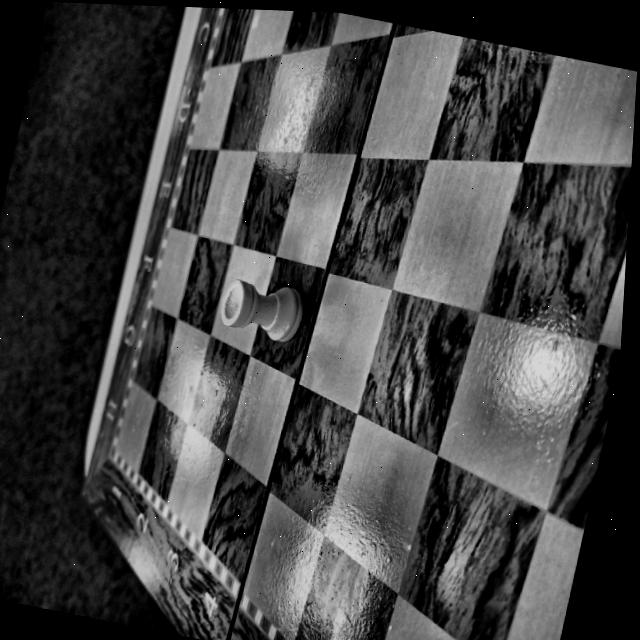white-rook: (221, 279, 304, 341)
